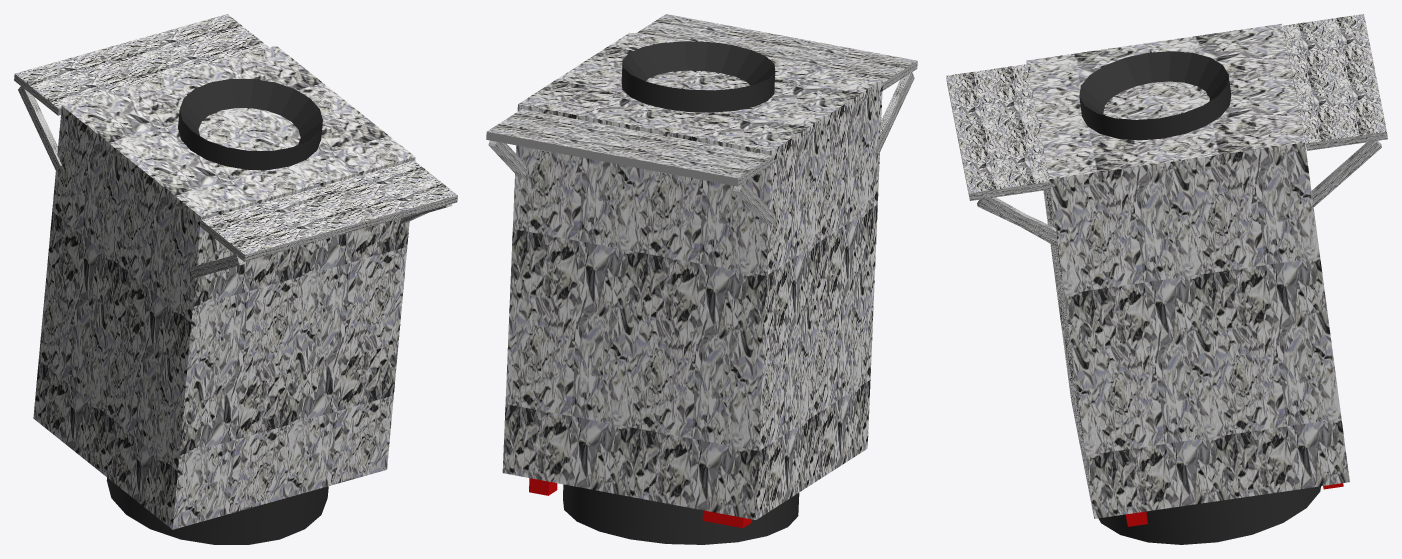
File: Satalite Core.fbx
3 views of the same model, side by side, from view 1: azimuth 30°, elevation 25°; view 2: azimuth 150°, elevation 25°; view 3: azimuth 270°, elevation 25° (orthographic). The views are drawn at different scales.
Visible parts, largest first — view 1: pasted__group6_group4_pCylinder2; view 2: pasted__group6_group4_pCylinder2; view 3: pasted__group6_group4_pCylinder2.
Part boxes in pixels (left/top/right/bottom): pasted__group6_group4_pCylinder2: left=14, top=14, right=457, bottom=544; pasted__group6_group4_pCylinder2: left=486, top=14, right=917, bottom=544; pasted__group6_group4_pCylinder2: left=946, top=14, right=1387, bottom=544.
Bounding box in the file's own units: 1.28 × 1.97 × 1.83.
